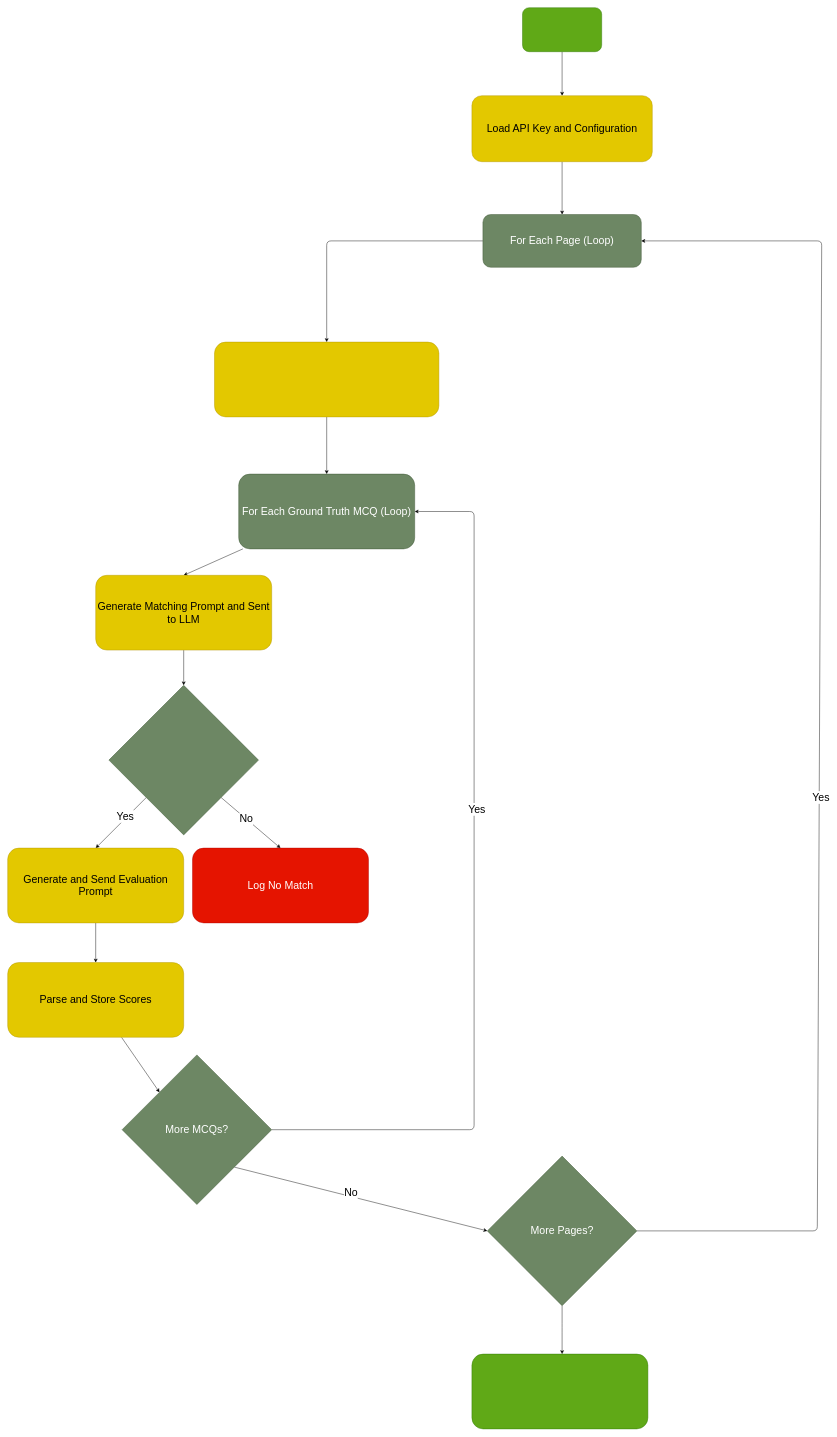
Image size: 837x1437. Some labels were removed from this diagram. Here are the shapes that lost their labels. From the top down, the centre of each, then its label:
the point at 562,29: Start
the point at 326,379: Load Generated and Ground Truth MCQs
the point at 183,760: Is There a Match?
the point at 559,1391: Save Results and End
